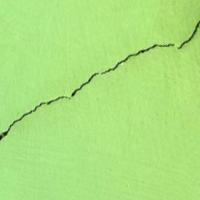crack: (0, 20, 199, 155)
